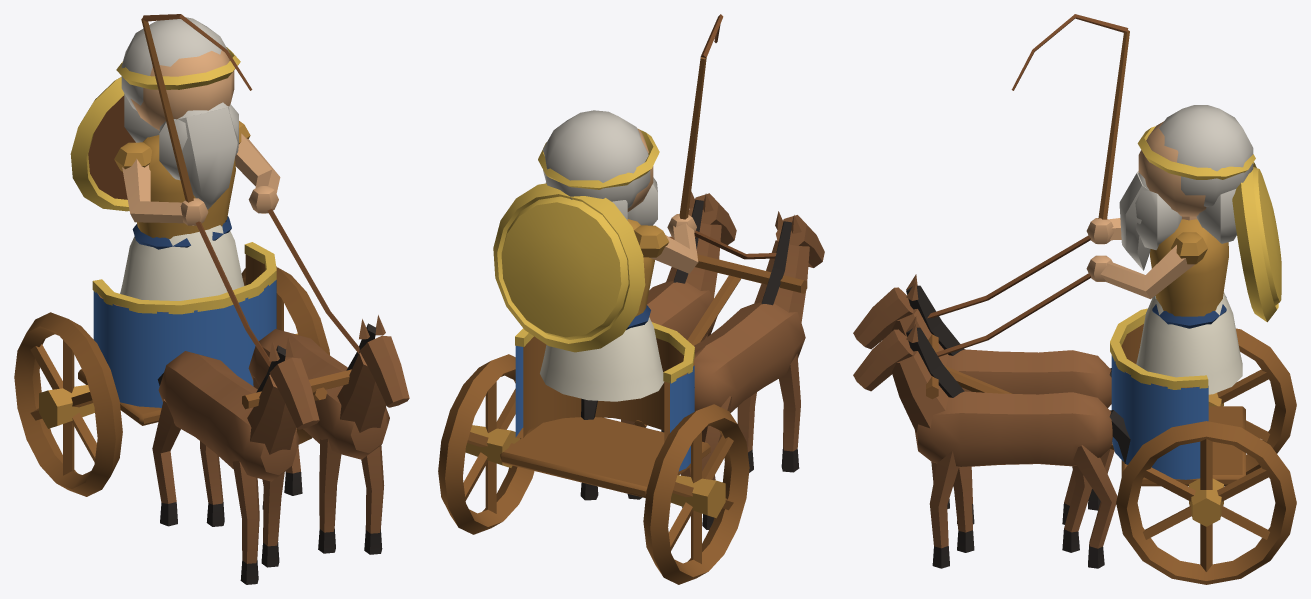
The model's file is nestor.glb.
3 renders of one model, left to right at view 1: azimuth 30°, elevation 25°; view 2: azimuth 150°, elevation 25°; view 3: azimuth 270°, elevation 25°, orthographic. The views are drawn at different scales.
Visible parts, largest first — view 1: nestor; view 2: nestor; view 3: nestor.
Part boxes in pixels (bbox=[...]): nestor: bbox=[14, 14, 409, 584]; nestor: bbox=[438, 14, 824, 584]; nestor: bbox=[853, 14, 1296, 584].
Bounding box in the file's own units: 0.49 × 0.9634 × 0.7853.
